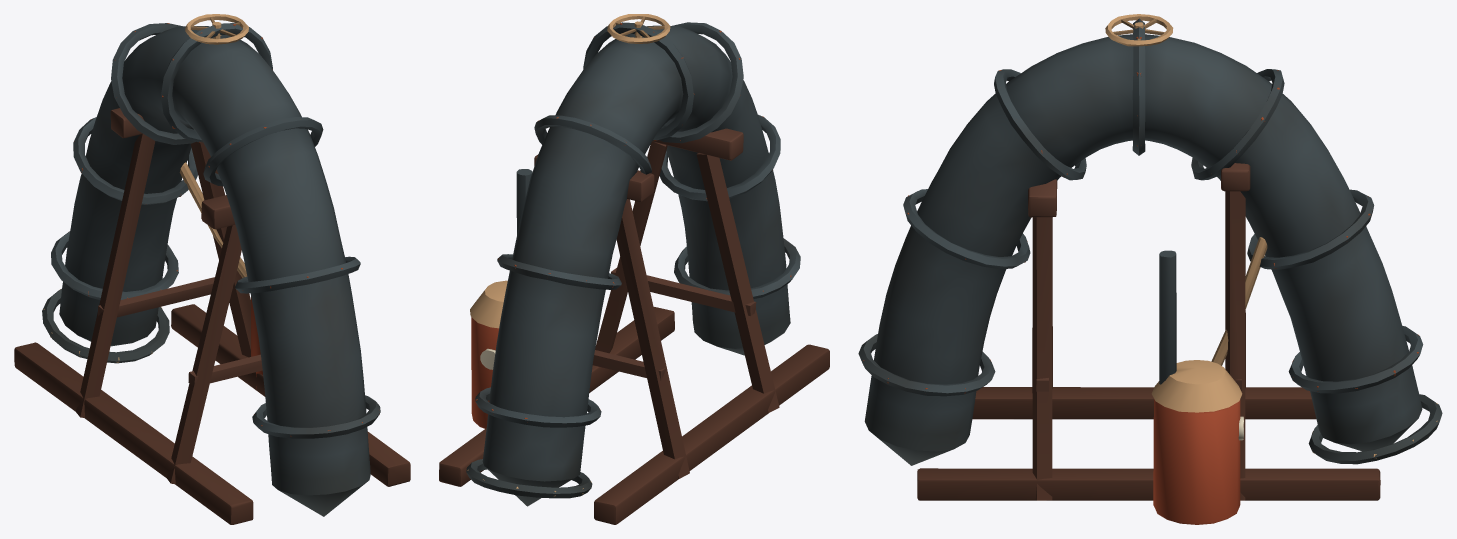
The model's file is pump_siphon.glb.
3 renders of one model, left to right at view 1: azimuth 30°, elevation 25°; view 2: azimuth 150°, elevation 25°; view 3: azimuth 270°, elevation 25°, orthographic. The views are drawn at different scales.
Parts seen in each view (by area): view 1: PumpSiphon, Valve; view 2: PumpSiphon, Valve; view 3: PumpSiphon, Valve.
Boxes of the visible parts, box(x1,y1,x2,y2) form: PumpSiphon: box(14, 23, 410, 524); Valve: box(185, 14, 248, 44); PumpSiphon: box(439, 22, 829, 524); Valve: box(607, 14, 670, 43); PumpSiphon: box(858, 18, 1442, 524); Valve: box(1105, 14, 1173, 46).
Bounding box in the file's own units: 2.97 × 5.06 × 6.05.
